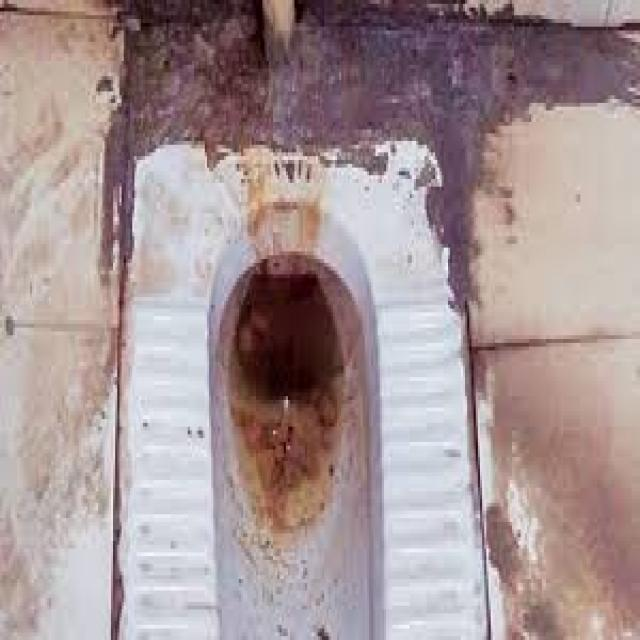Dirty_toilet: (116, 81, 596, 640)
